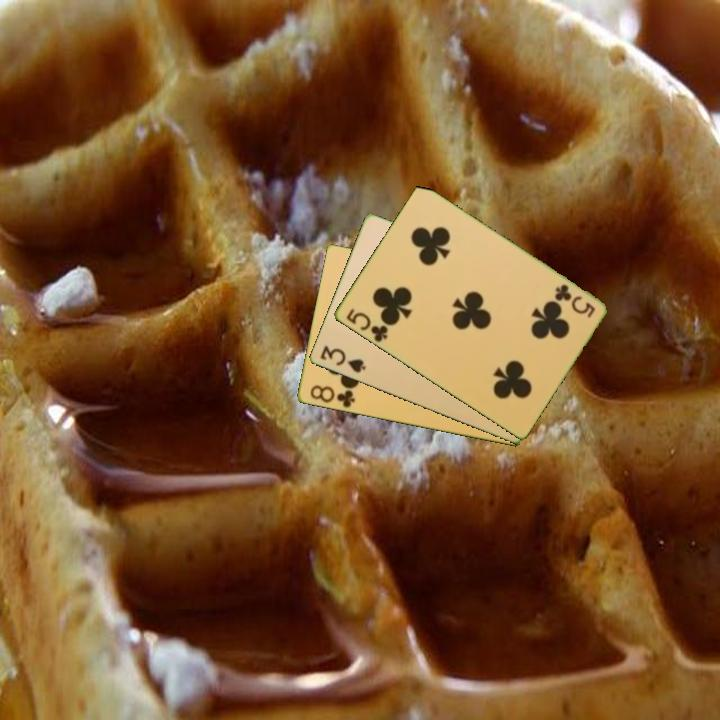3s: (316, 342, 369, 376)
5c: (342, 305, 391, 345), (551, 280, 598, 321)
8c: (306, 382, 358, 411)
